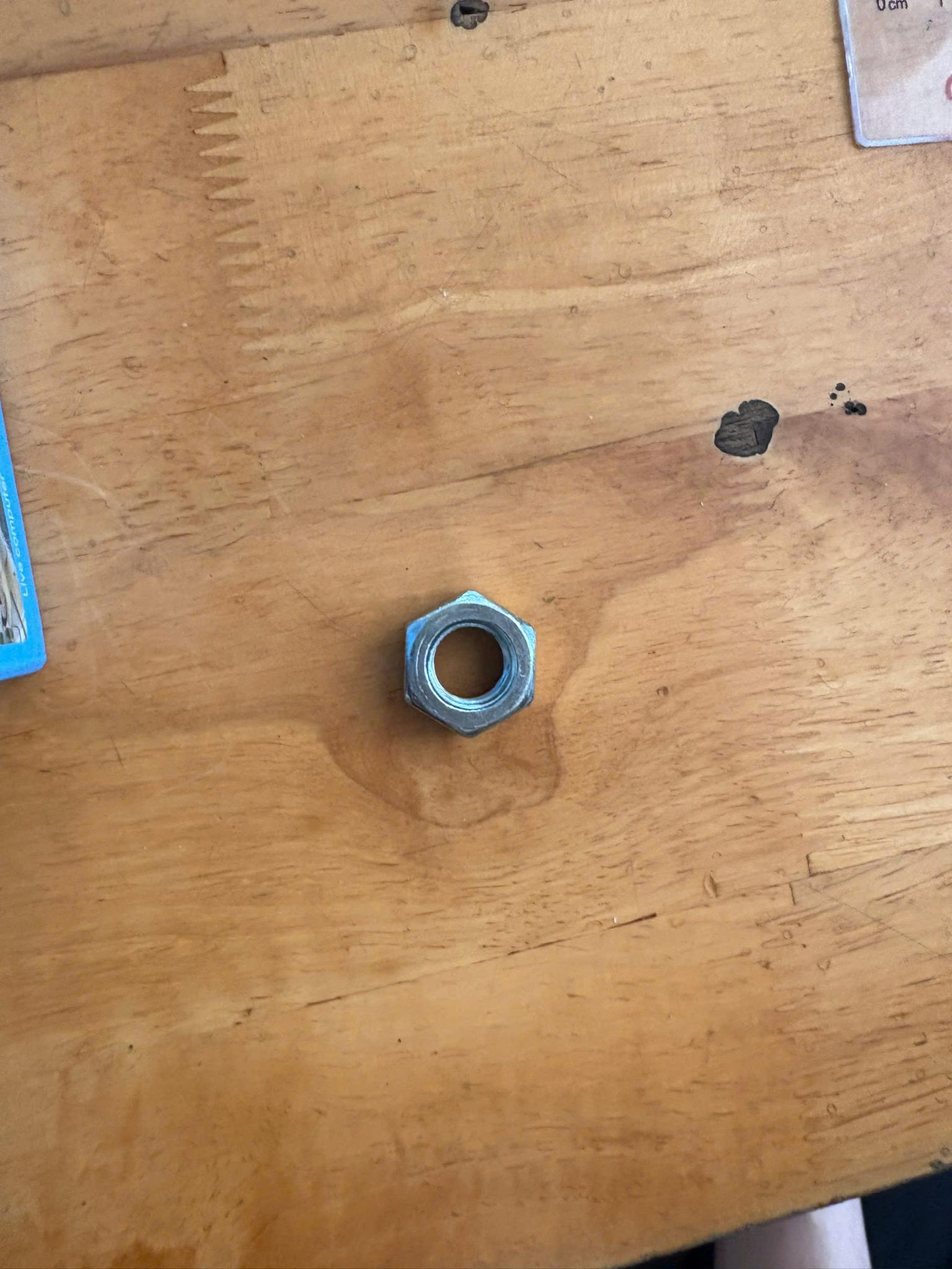nut: (367, 585, 563, 744)
